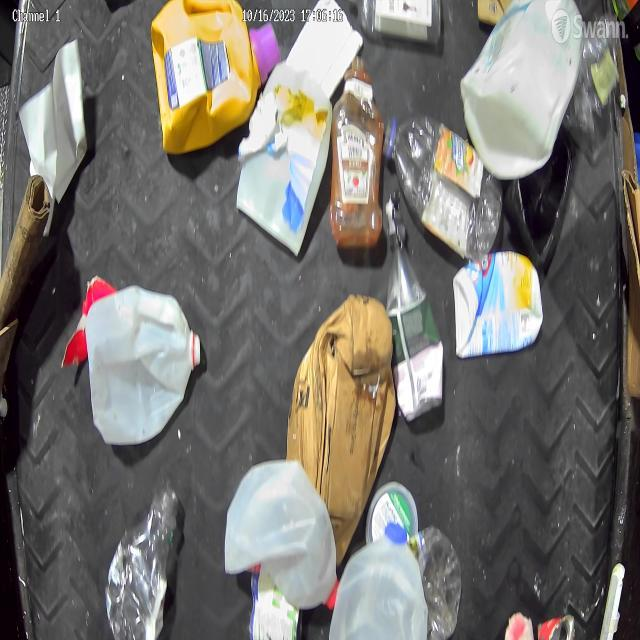milk_jug: (458, 3, 586, 170), (86, 284, 202, 446), (220, 456, 337, 604), (333, 520, 427, 640)
non_white_jug: (144, 0, 280, 150)
plastic_bottle: (376, 105, 498, 252), (106, 481, 176, 640)
